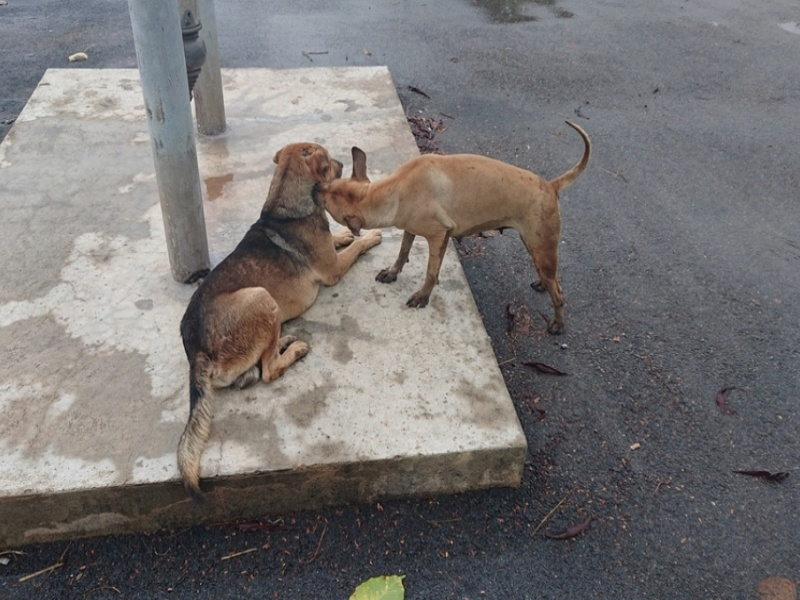dog: (171, 137, 381, 508), (312, 106, 601, 337)
